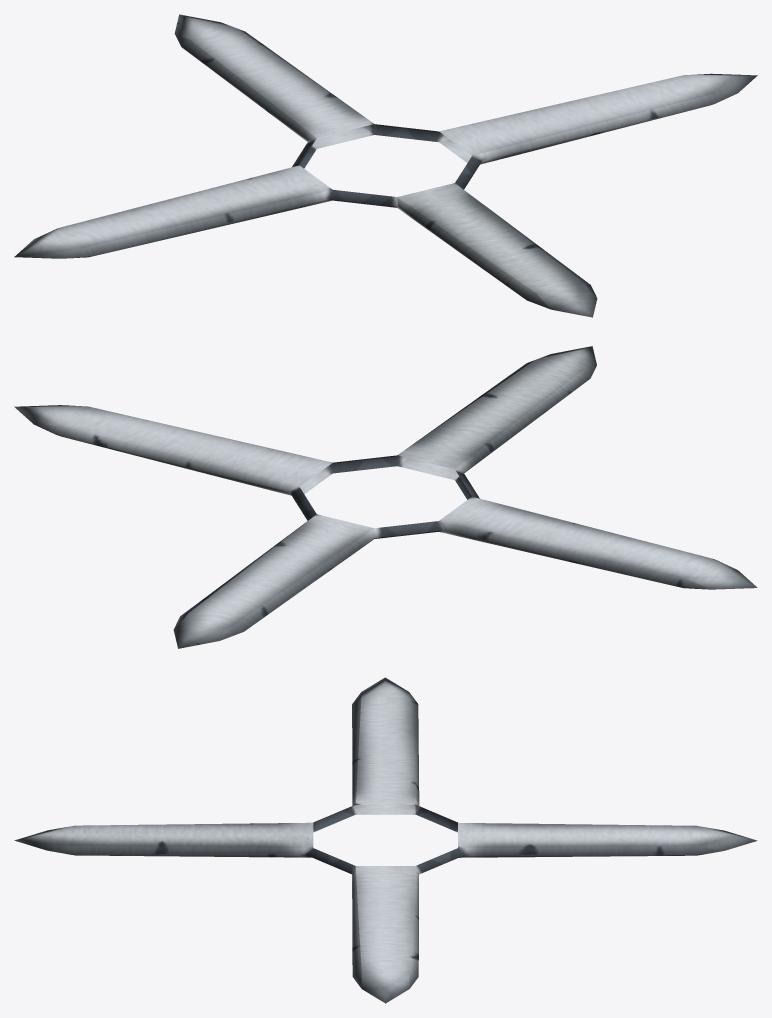
Rendered from Trap_2_2.fbx.
3 views of the same model, one above another, from view 1: azimuth 30°, elevation 25°; view 2: azimuth 150°, elevation 25°; view 3: azimuth 270°, elevation 25° (orthographic). The views are drawn at different scales.
Visible parts, largest first — view 1: Trap2_1; view 2: Trap2_1; view 3: Trap2_1.
Boxes of the visible parts, bbox=[...] form: Trap2_1: bbox=[14, 14, 757, 317]; Trap2_1: bbox=[14, 346, 757, 648]; Trap2_1: bbox=[14, 677, 757, 1003].
Size of the model in its own units: 0.0553 by 0.000781 by 0.0533.
1 material, 1 textured.
